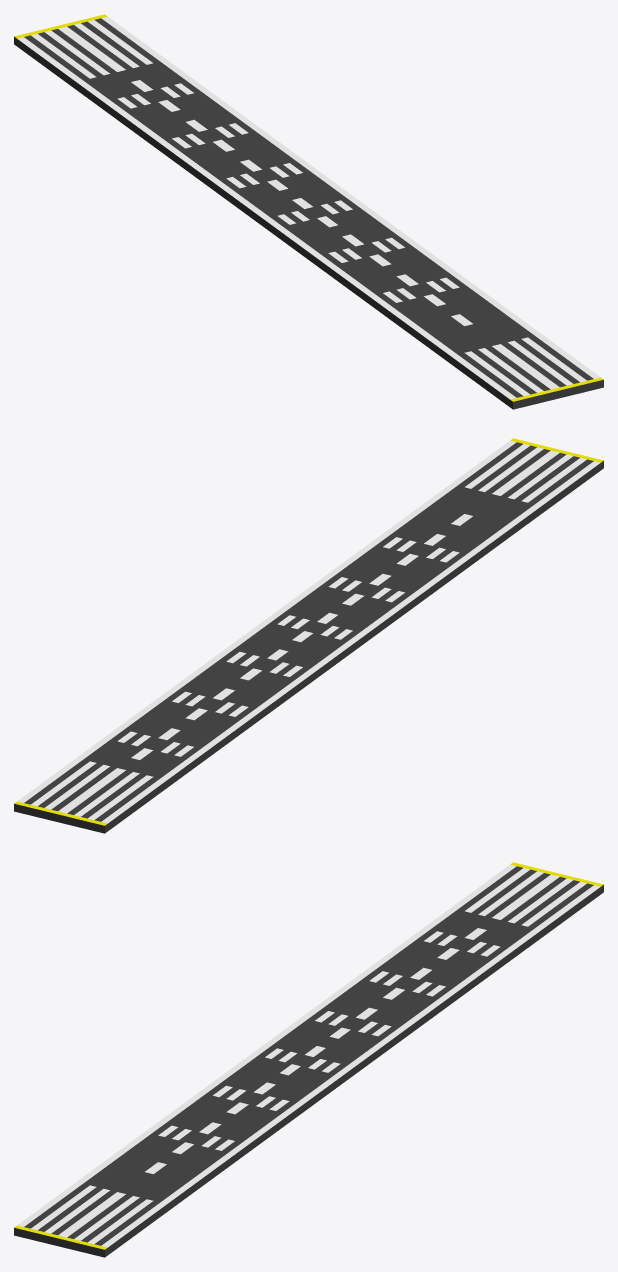
File: RunwayTest 1.fbx
3 views of the same model, one above another, from view 1: azimuth 30°, elevation 25°; view 2: azimuth 150°, elevation 25°; view 3: azimuth 330°, elevation 25° (orthographic).
Visible parts, largest first — view 1: Cube; view 2: Cube; view 3: Cube.
Boxes of the visible parts, x1,y1,x2,y2 form: Cube: [14, 14, 603, 409]; Cube: [14, 438, 603, 833]; Cube: [14, 862, 603, 1257].
Bounding box in the file's own units: 1187 × 98.15 × 11296.
